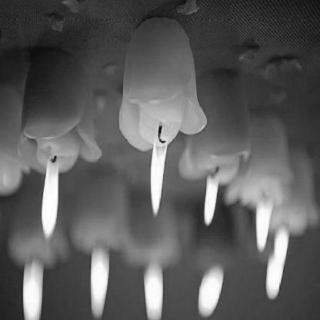Fire: (142, 128, 174, 222), (33, 148, 63, 244), (86, 249, 116, 313), (15, 255, 44, 318), (193, 269, 229, 317), (139, 270, 169, 318), (270, 236, 288, 306), (200, 172, 220, 232), (258, 203, 272, 255)
